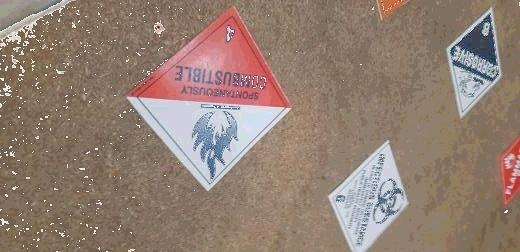corrosive: (439, 5, 505, 119)
infectious-substance: (325, 138, 411, 252)
spontaneously-combustible: (120, 2, 291, 192)
